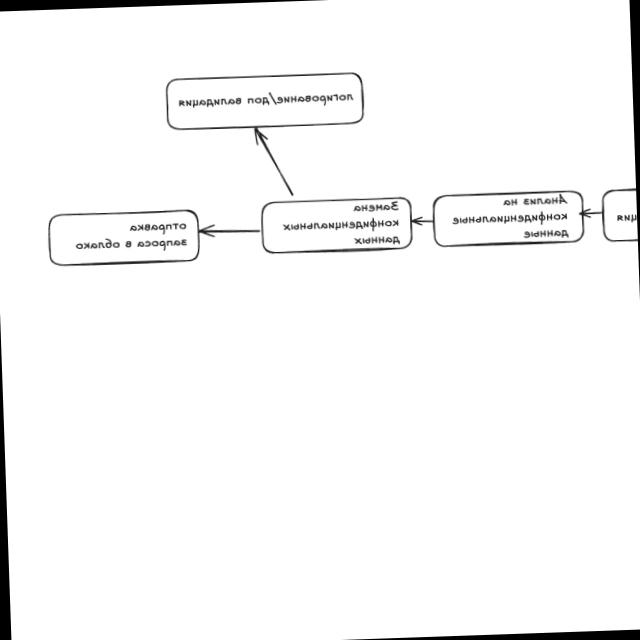arrow: (254, 128, 292, 195), (198, 225, 259, 237), (578, 209, 601, 217), (411, 217, 431, 225)
rectangle: (165, 73, 362, 129), (48, 210, 198, 266), (261, 198, 411, 253), (432, 192, 583, 246)
